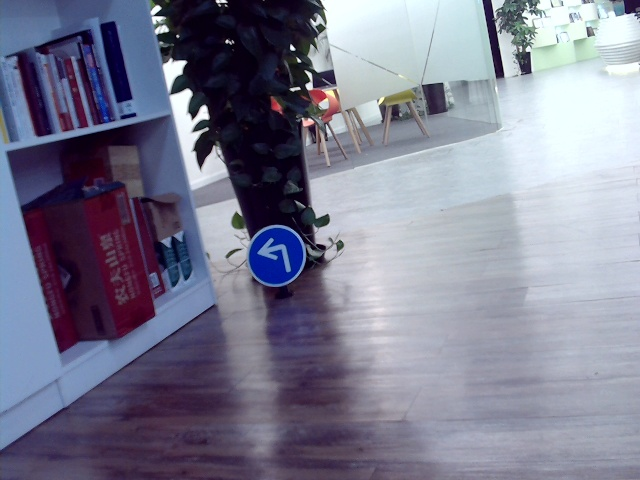turn_left: (254, 235, 292, 270)
